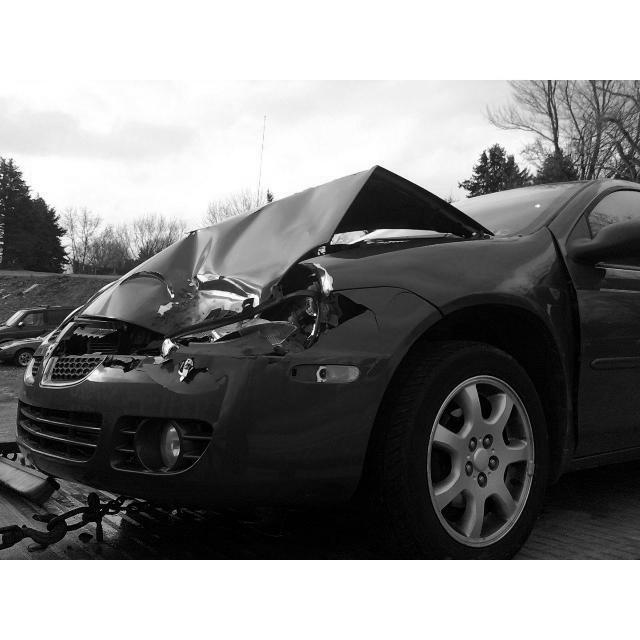Headlight-damage: (149, 292, 339, 370)
bonnet-dent: (67, 171, 430, 275)
